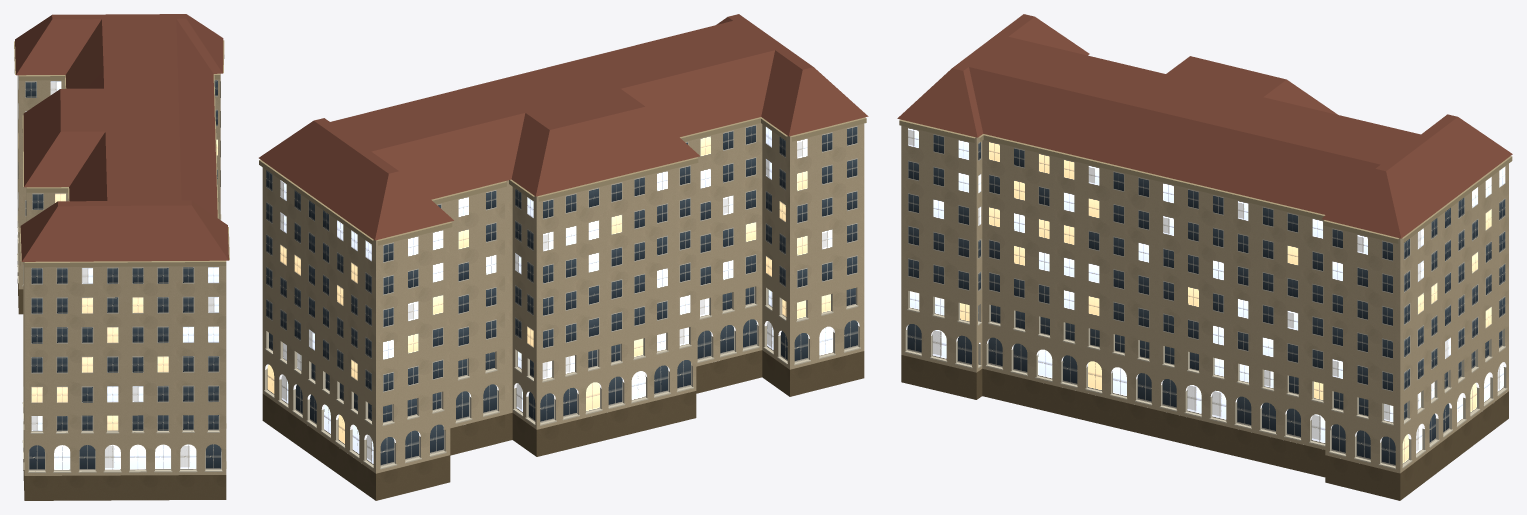
Rendered from sh_kern.glb.
3 views of the same model, side by side, from view 1: azimuth 30°, elevation 25°; view 2: azimuth 150°, elevation 25°; view 3: azimuth 270°, elevation 25° (orthographic). The views are drawn at different scales.
Visible parts, largest first — view 1: sh_kern; view 2: sh_kern; view 3: sh_kern.
Boxes of the visible parts, x1,y1,x2,y2 form: sh_kern: (14,14,229,500); sh_kern: (259,14,868,500); sh_kern: (897,14,1512,500).
Size of the model in its own units: 47.85 by 33.68 by 61.05.
Materials: 3 (3 with a texture image).
